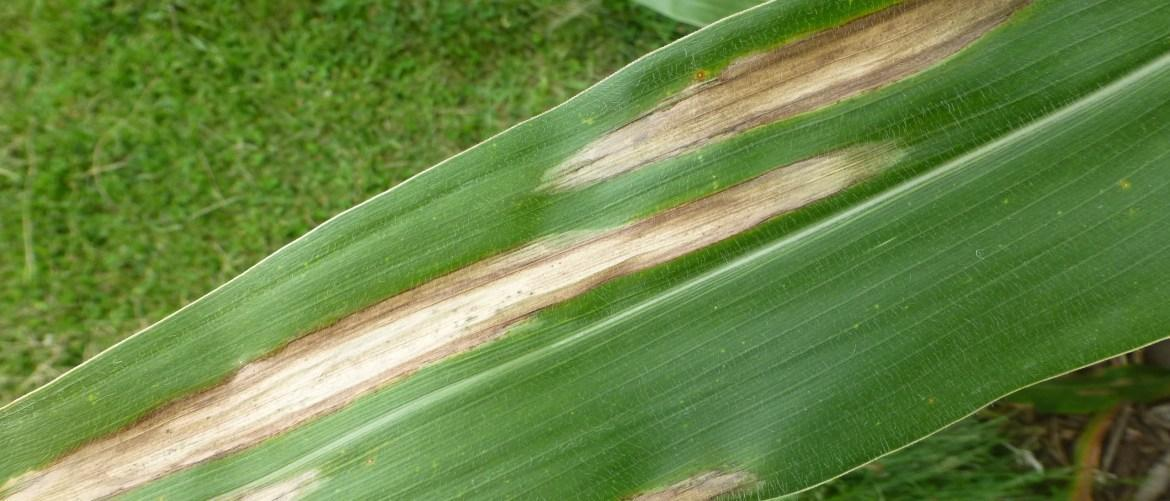Corn_Blight: (14, 209, 808, 501), (532, 5, 1062, 197)
